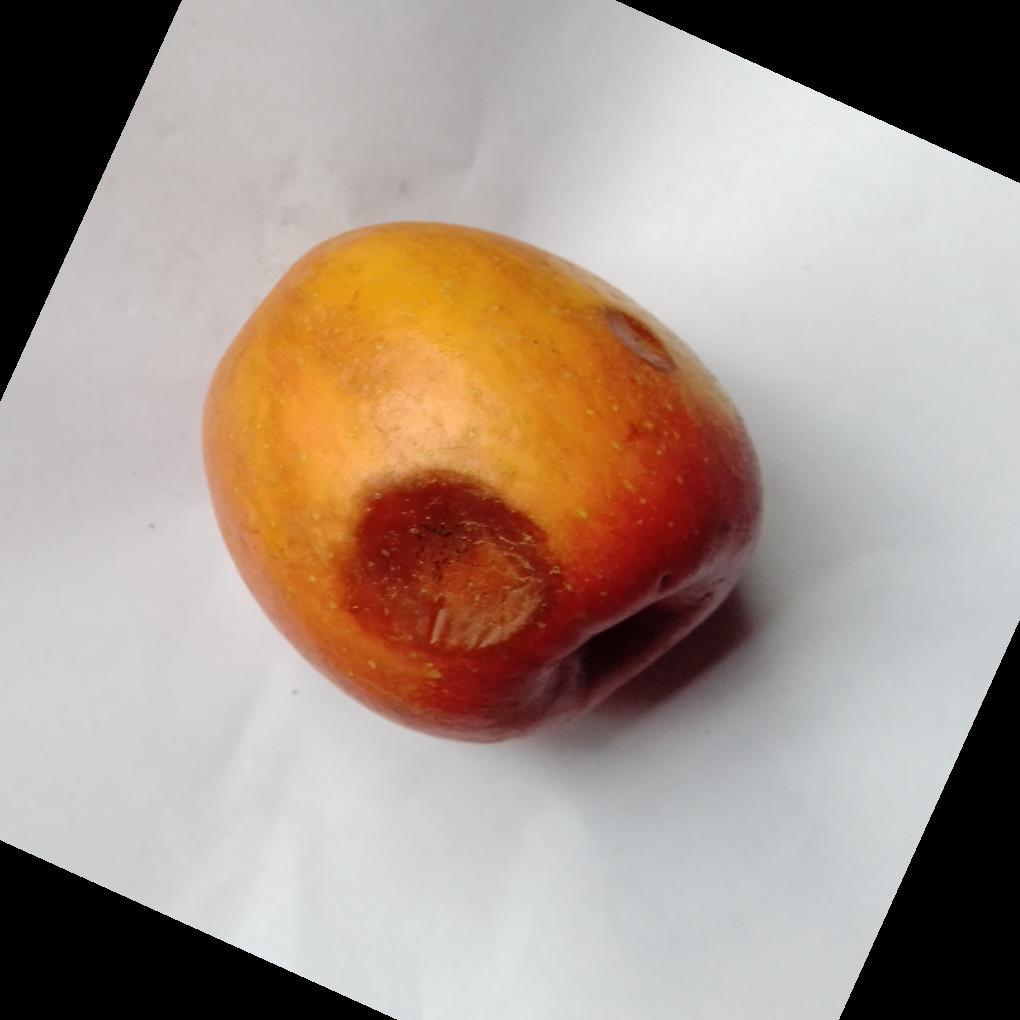FreshOrange: (199, 223, 764, 749)
